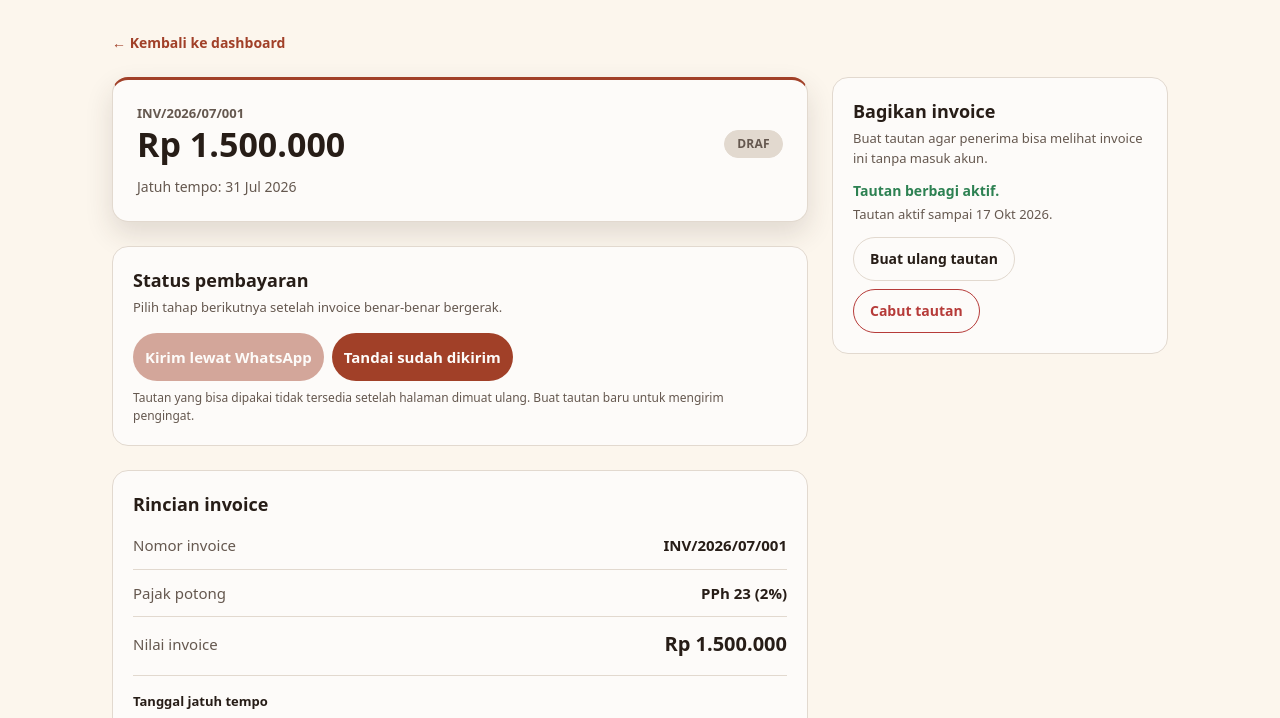
InvoiceDetailClient › Bagikan invoice › shows the reset expiry after regenerating
Click the button "Buat ulang tautan" at (934, 258), box left=853, top=236, right=1015, bottom=280
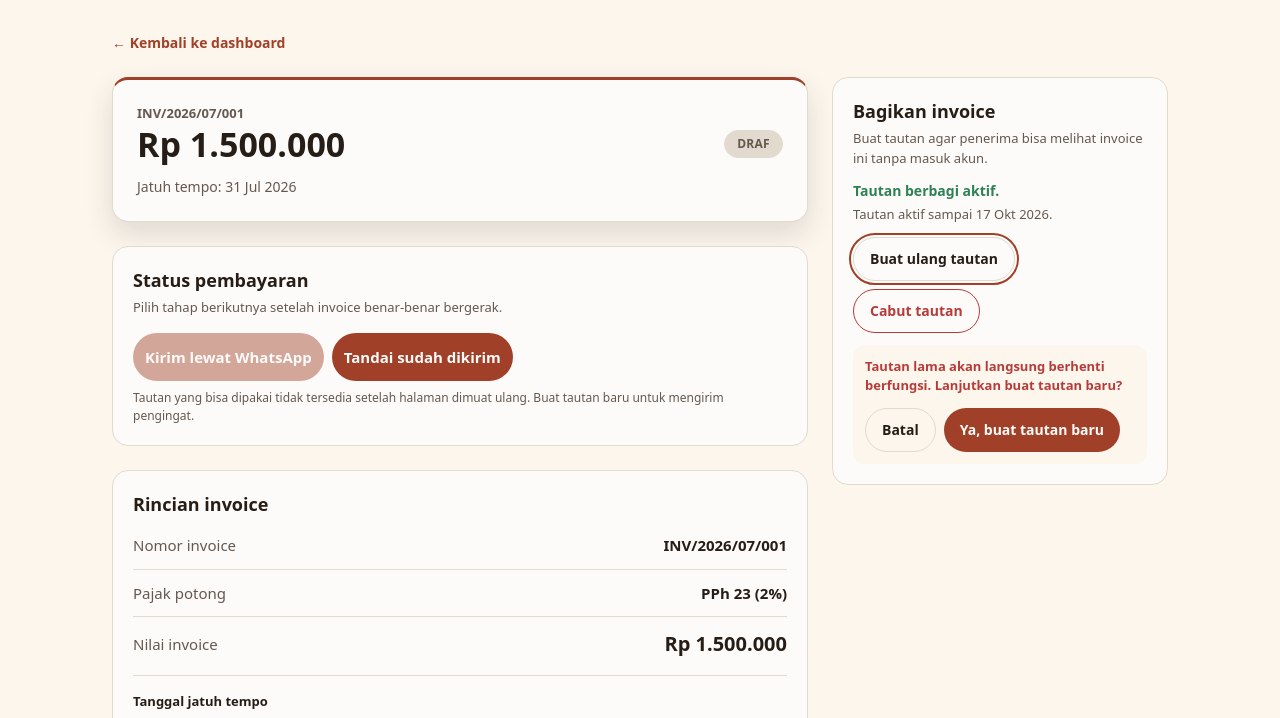
Click the button "Ya, buat tautan baru" at (1032, 430), box left=944, top=408, right=1120, bottom=452
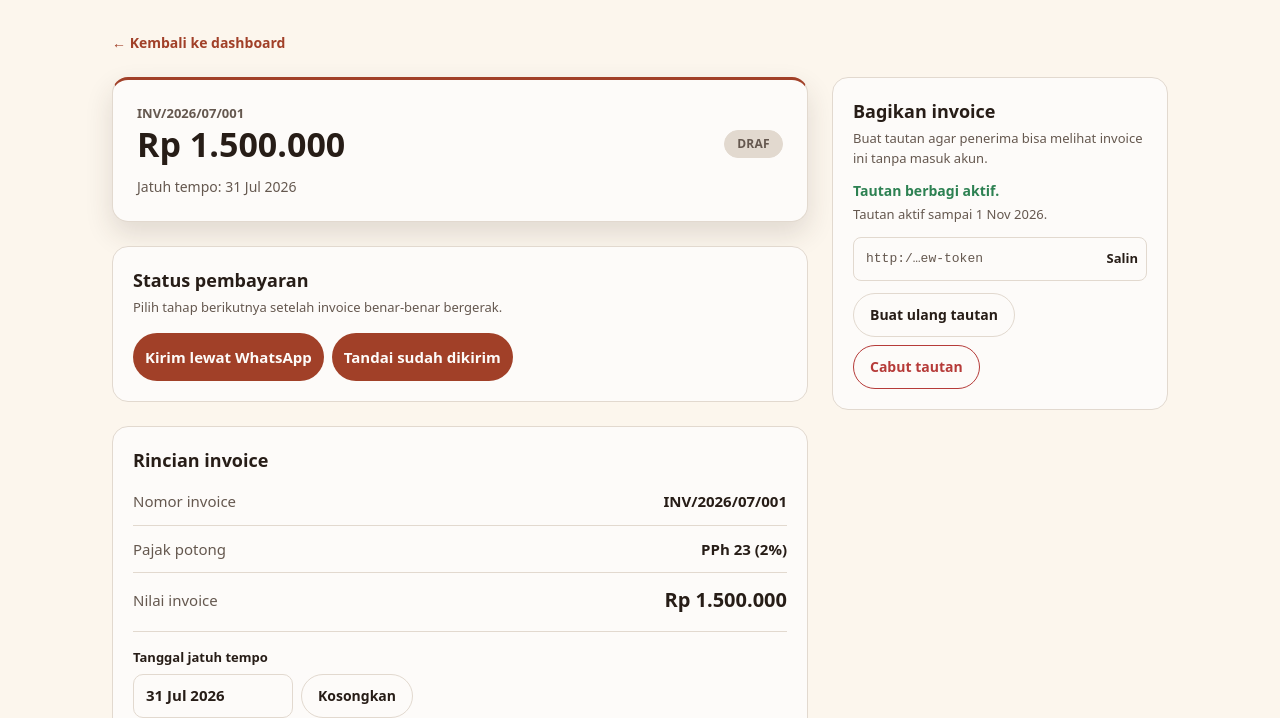
expect the text "Tautan aktif sampai 1 Nov 2026." is shown: met, box left=853, top=205, right=1047, bottom=223
